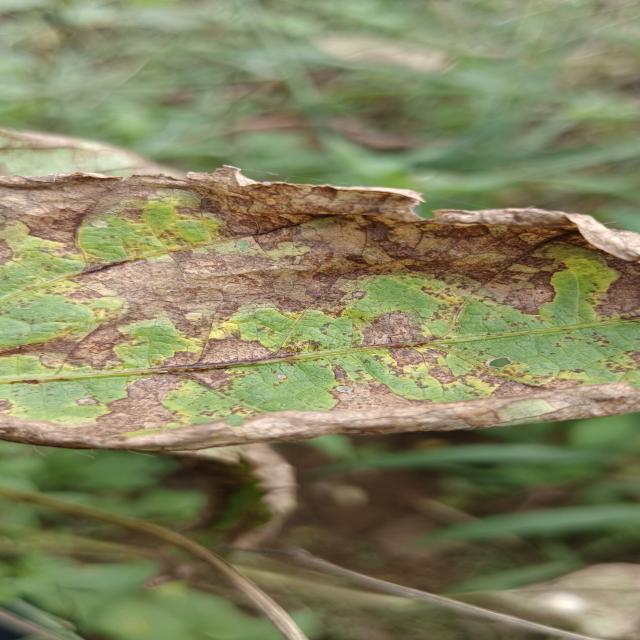Black gram_leaf spot: (0, 156, 640, 463)
